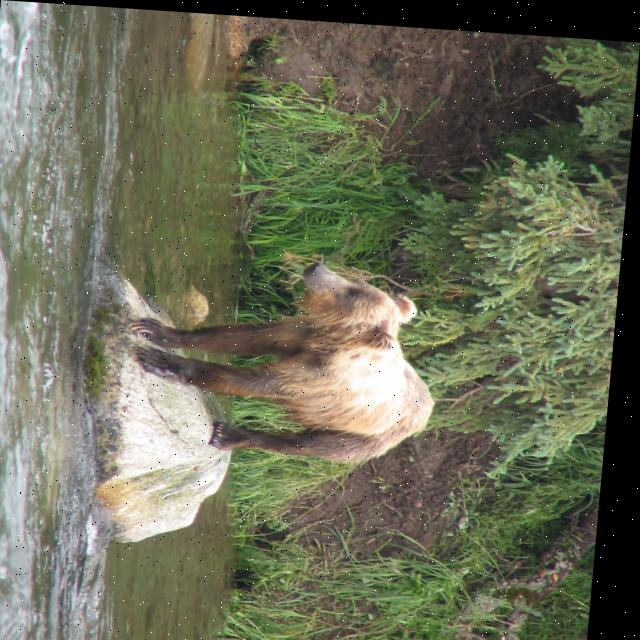bear face: (129, 250, 452, 465)
